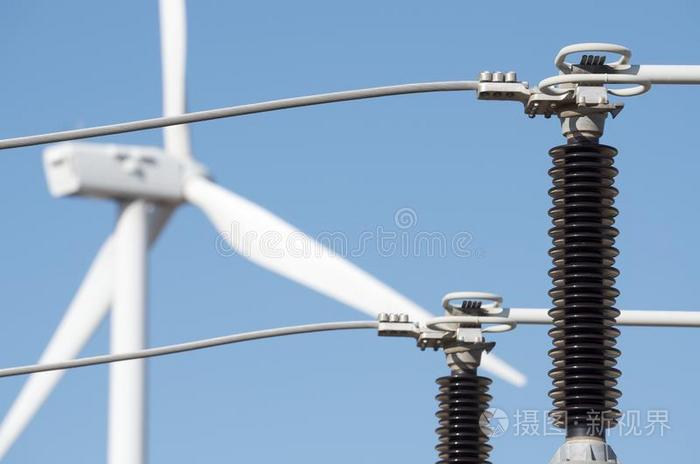insulator: (546, 139, 621, 425), (435, 369, 500, 464)
